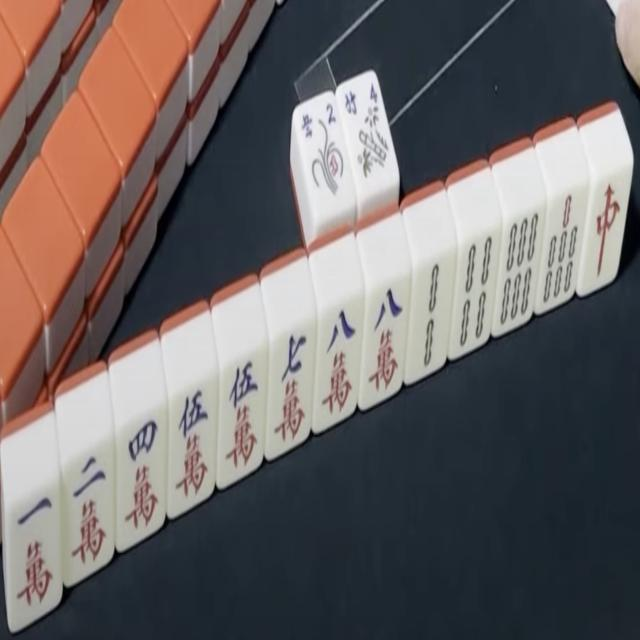f2: (295, 92, 349, 216)
f4: (337, 73, 398, 192)
m1: (1, 486, 60, 620)
m2: (59, 443, 119, 578)
m4: (114, 407, 163, 545)
m5: (217, 350, 270, 473), (166, 381, 214, 514)
m7: (268, 323, 320, 455)
m8: (316, 302, 368, 429), (361, 283, 413, 407)
s2: (408, 254, 458, 379)
s4: (450, 234, 501, 358)
s6: (493, 210, 546, 335)
s7: (534, 186, 588, 310)
zhong: (584, 173, 633, 287)
